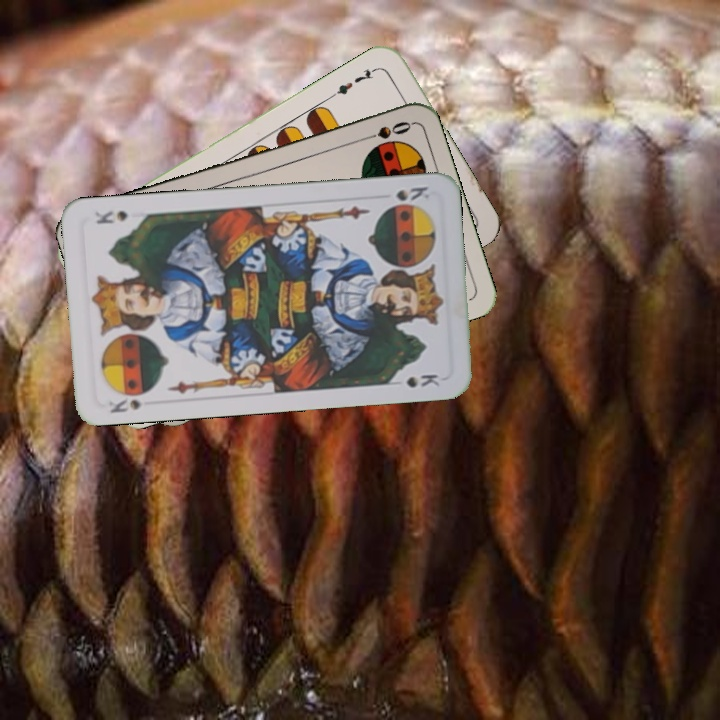E7: (327, 63, 381, 100)
SK: (392, 182, 432, 204), (104, 394, 144, 416)
SO: (356, 117, 414, 144)
